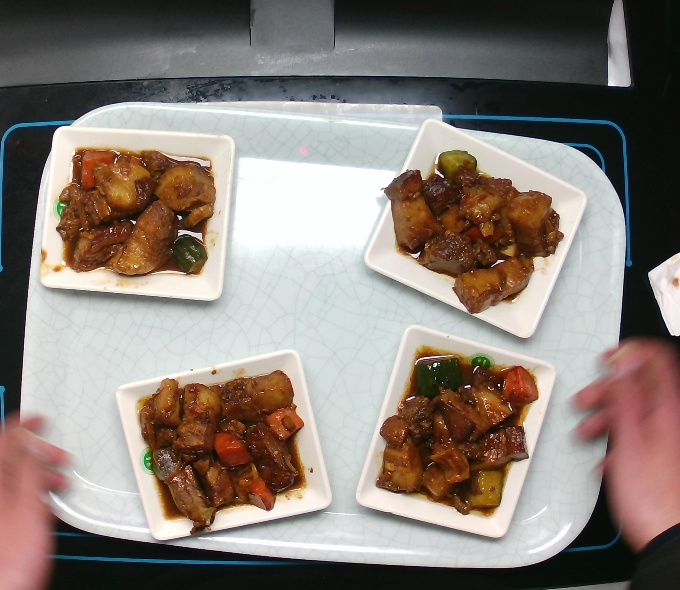wcq-JiangRou: (130, 356, 320, 537), (377, 143, 567, 324), (373, 339, 545, 522), (53, 138, 222, 286)
